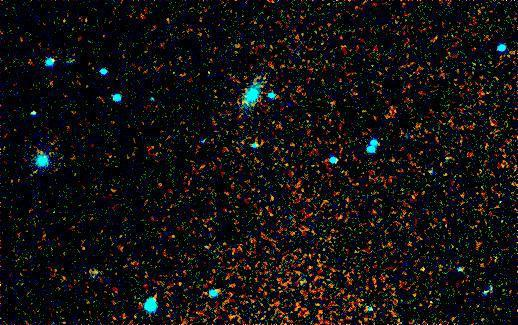star: (253, 172, 283, 202)
